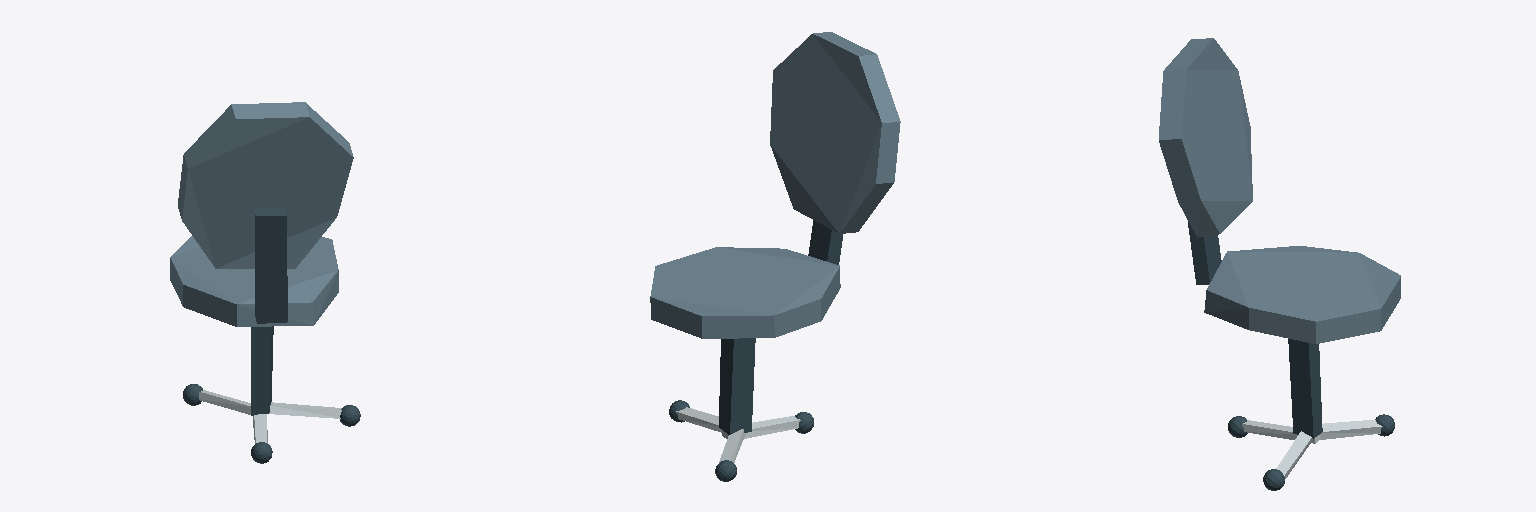
The picture shows the model from 3 angles: view 1: azimuth 30°, elevation 25°; view 2: azimuth 150°, elevation 25°; view 3: azimuth 270°, elevation 25°; orthographic projection.
Visible parts, largest first — view 1: group[number redacted], group[number redacted], group[number redacted], group[number redacted], group[number redacted], group[number redacted]; view 2: group[number redacted], group[number redacted], group[number redacted], group[number redacted], group[number redacted], group[number redacted]; view 3: group[number redacted], group[number redacted], group[number redacted], group[number redacted], group[number redacted], group[number redacted], group[number redacted].
Boxes of the visible parts, box(x1,y1,x2,y2) form: group[number redacted]: box(178, 102, 353, 268); group[number redacted]: box(170, 236, 338, 326); group[number redacted]: box(255, 208, 287, 323); group[number redacted]: box(251, 326, 273, 415); group[number redacted]: box(269, 402, 341, 418); group[number redacted]: box(199, 390, 250, 414); group[number redacted]: box(770, 32, 900, 233); group[number redacted]: box(650, 247, 840, 338); group[number redacted]: box(719, 338, 755, 434); group[number redacted]: box(808, 220, 842, 264); group[number redacted]: box(722, 416, 800, 438); group[number redacted]: box(676, 407, 721, 432); group[number redacted]: box(1204, 246, 1400, 343); group[number redacted]: box(1159, 38, 1252, 237); group[number redacted]: box(1288, 339, 1322, 438); group[number redacted]: box(1187, 219, 1221, 284); group[number redacted]: box(1320, 420, 1382, 439); group[number redacted]: box(1242, 420, 1320, 443); group[number redacted]: box(1276, 431, 1312, 478).
Size of the model in its own units: 0.7437 by 1.34 by 0.7796.